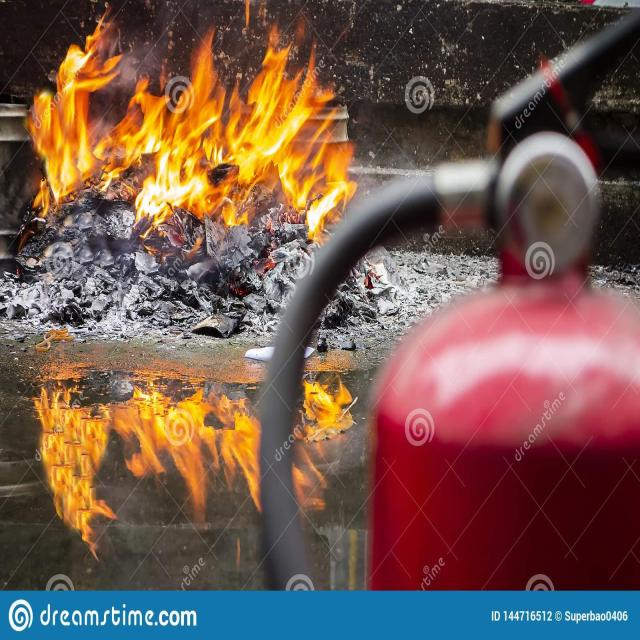fire_extinguisher: (246, 0, 640, 590)
